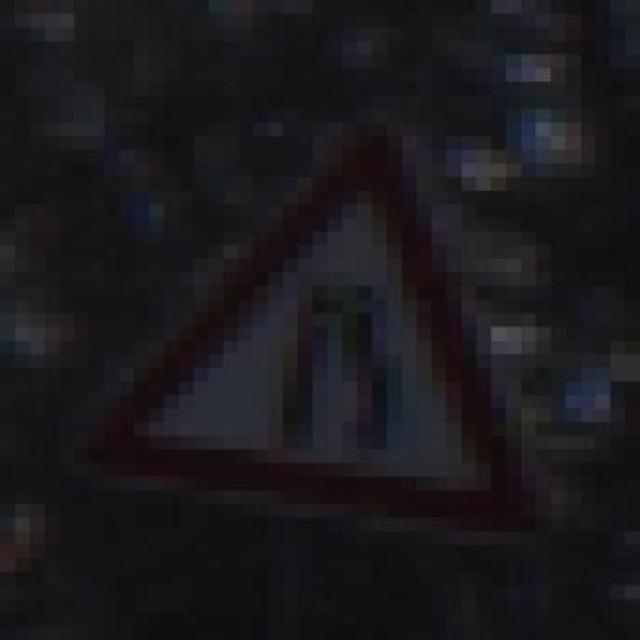-Road narrows on right: (74, 109, 566, 545)
